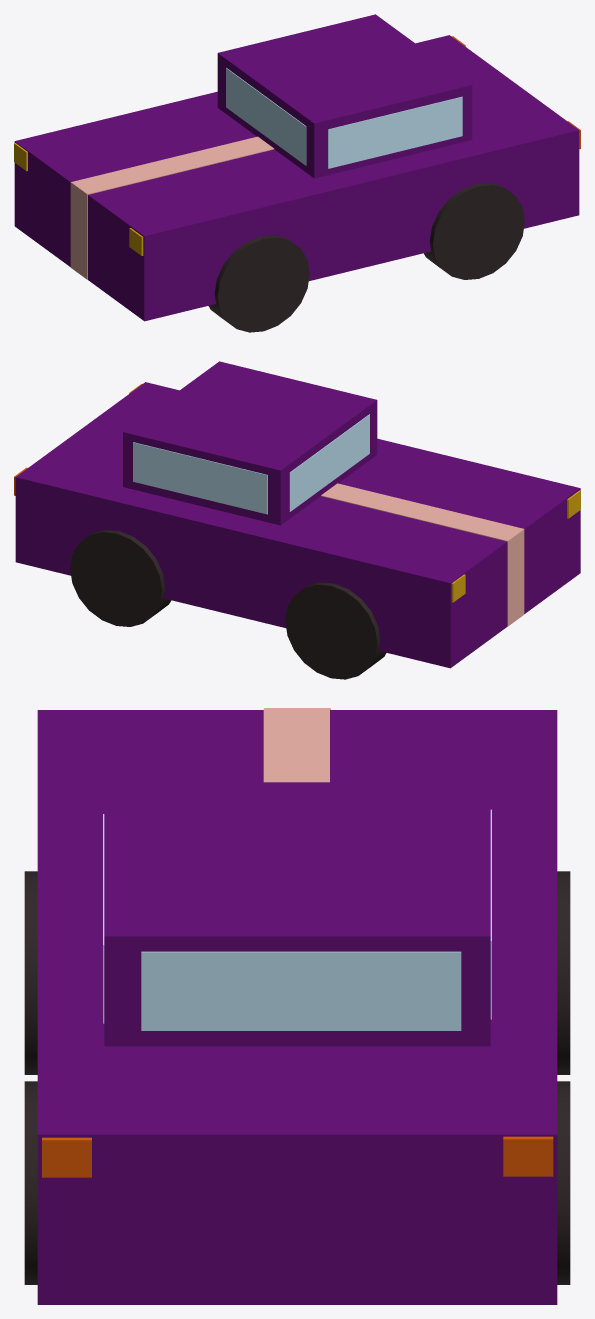
Rendered from obstacle3.fbx.
The picture shows the model from 3 angles, top to bottom: view 1: azimuth 30°, elevation 25°; view 2: azimuth 150°, elevation 25°; view 3: azimuth 270°, elevation 25°; orthographic projection. The views are drawn at different scales.
Visible parts, largest first — view 1: RaceCar; view 2: RaceCar; view 3: RaceCar.
Boxes of the visible parts, box(x1,y1,x2,y2) form: RaceCar: box(14, 14, 580, 332); RaceCar: box(14, 361, 580, 679); RaceCar: box(24, 708, 570, 1304).
Size of the model in its own units: 9988 by 3826 by 5370.
6 materials, 6 textured.
